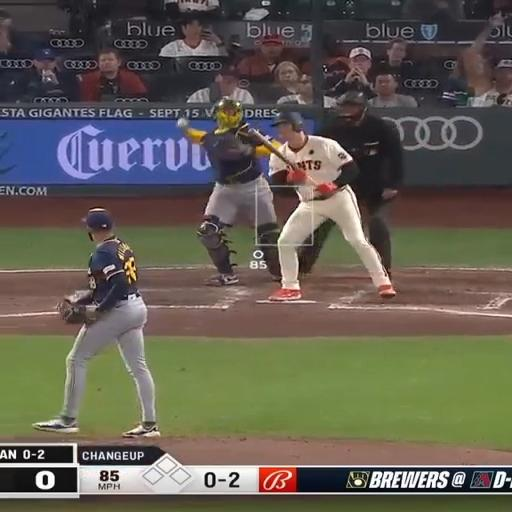bat: (248, 128, 294, 167)
